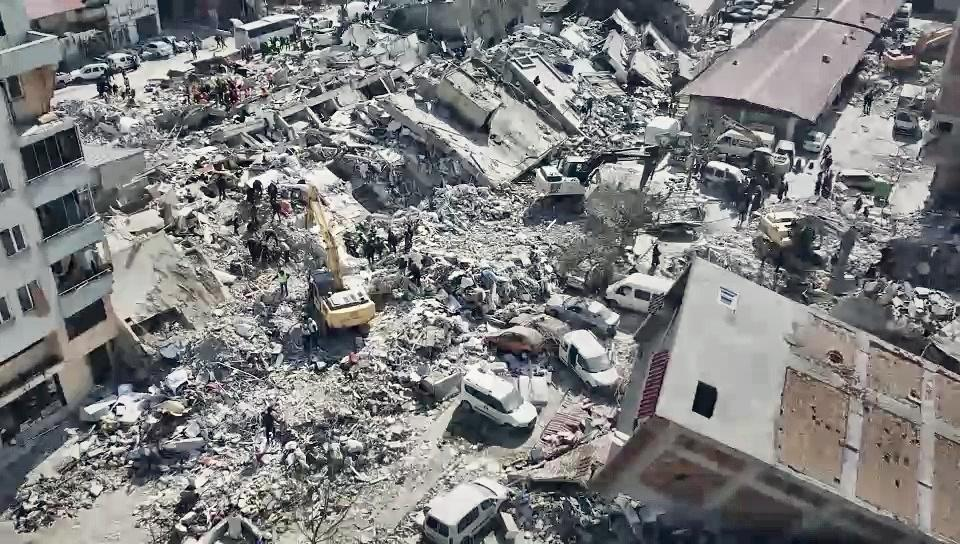kapali: (0, 0, 791, 543), (701, 105, 935, 318)
